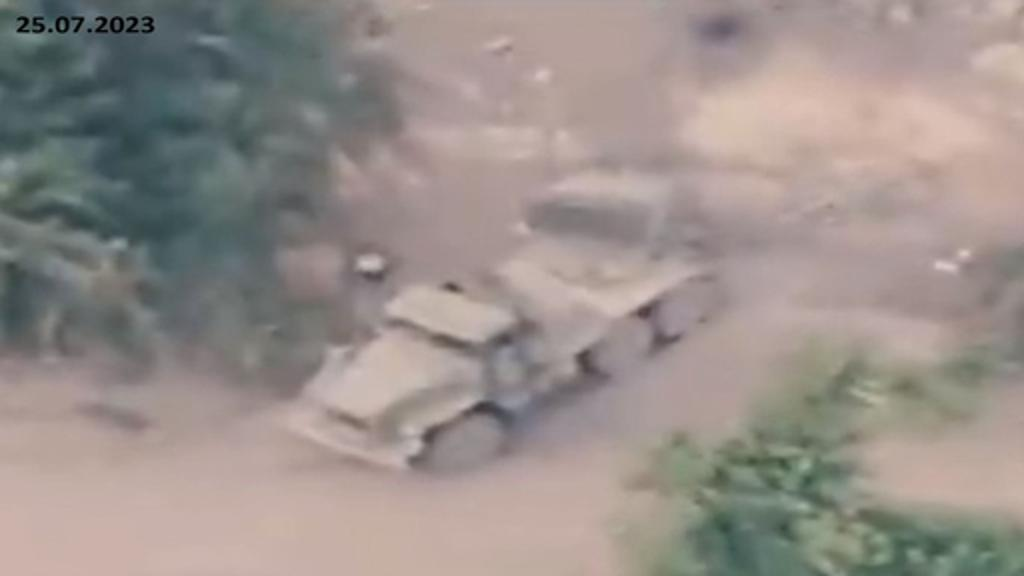MLRS: (278, 160, 716, 480)
